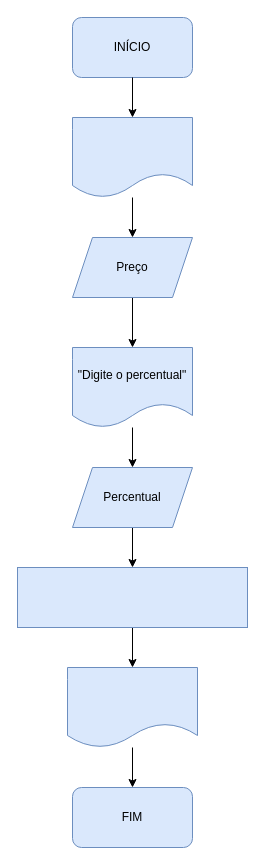
This 265x865 diagram has some shape labels left out. Here are the shapes that lost their labels. From the top down, the centre of each, then its label:
point 132,157: "Digite o preço"
point 132,597: Novo = Preço - (preço * percentual /100)
point 132,707: "Novo preço = ", novo
